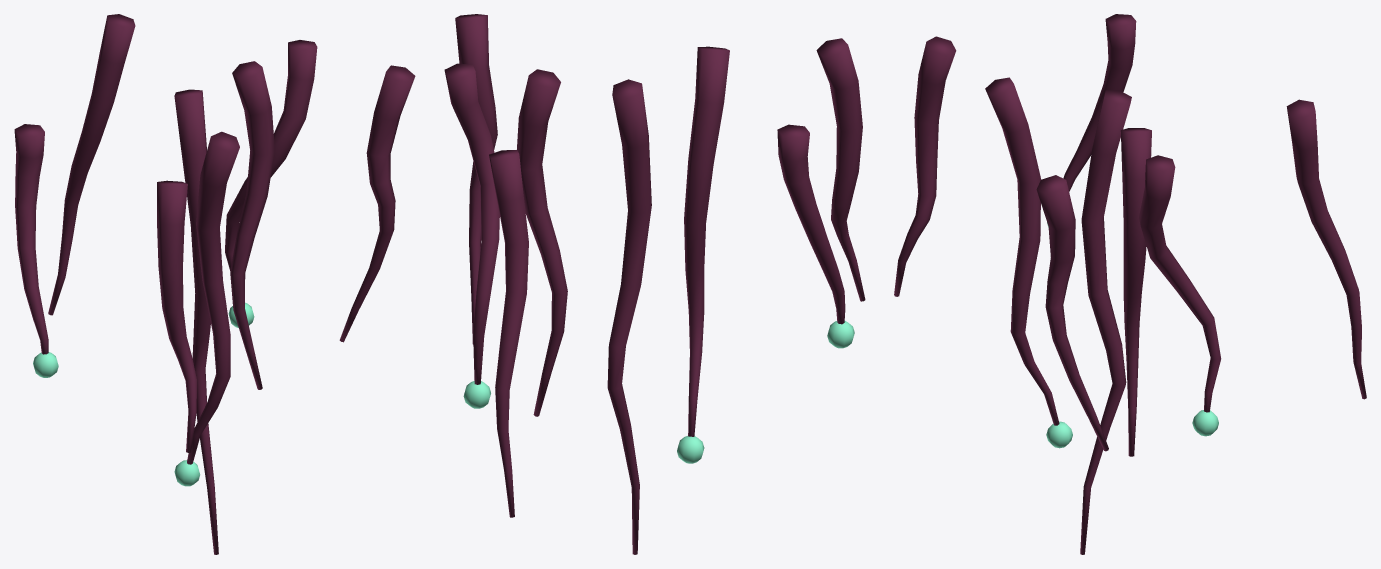
File: SM_Tendrils.fbx
3 views of the same model, side by side, from view 1: azimuth 30°, elevation 25°; view 2: azimuth 150°, elevation 25°; view 3: azimuth 270°, elevation 25° (orthographic). The views are drawn at different scales.
Visible parts, largest first — view 1: SM_Tendrils; view 2: SM_Tendrils; view 3: SM_Tendrils.
Boxes of the visible parts, x1=… form: SM_Tendrils: x1=14, y1=14, x2=415, y2=554; SM_Tendrils: x1=444, y1=14, x2=865, y2=554; SM_Tendrils: x1=894, y1=14, x2=1366, y2=554.
Bounding box in the file's own units: 1.94 × 2.25 × 2.11.
